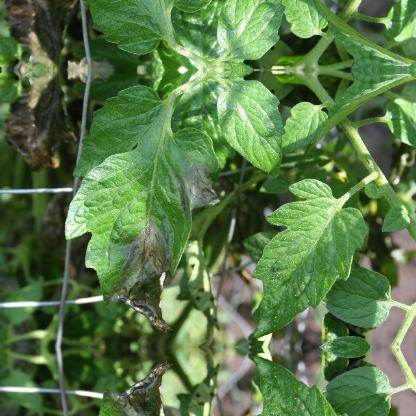Late-Blight: (64, 102, 212, 332), (64, 361, 212, 416)
